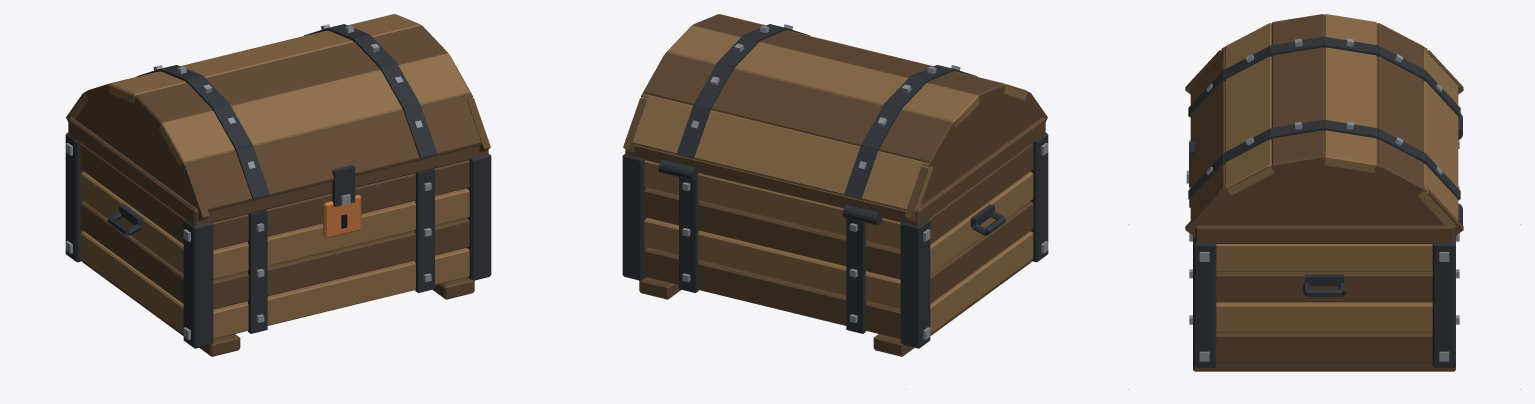
File: coffre_bois.glb
3 views of the same model, side by side, from view 1: azimuth 30°, elevation 25°; view 2: azimuth 150°, elevation 25°; view 3: azimuth 270°, elevation 25° (orthographic).
Visible parts, largest first — view 1: couvercle_bois_sombre.002, pieces_bois_sombre.002, pieces_bois.004, couvercle_bois.002, pieces_fonte.004, couvercle_fonte.004, pieces_cuivre.004, pieces_acier.004, couvercle_acier.004; view 2: couvercle_bois_sombre.002, couvercle_bois.002, pieces_bois_sombre.002, pieces_bois.004, pieces_fonte.004, couvercle_fonte.004, pieces_acier.004, couvercle_acier.004; view 3: couvercle_bois_sombre.002, couvercle_bois.002, pieces_bois_sombre.002, pieces_bois.004, pieces_fonte.004, couvercle_fonte.004, pieces_acier.004, couvercle_acier.004.
Part boxes in pixels (bbox=[...]): couvercle_bois_sombre.002: bbox=[66, 14, 490, 225]; pieces_bois_sombre.002: bbox=[80, 143, 474, 356]; pieces_bois.004: bbox=[80, 171, 469, 339]; couvercle_bois.002: bbox=[69, 14, 469, 167]; pieces_fonte.004: bbox=[65, 132, 491, 348]; couvercle_fonte.004: bbox=[136, 24, 437, 206]; pieces_cuivre.004: bbox=[323, 194, 361, 238]; pieces_acier.004: bbox=[65, 143, 431, 339]; couvercle_acier.004: bbox=[153, 24, 422, 205]; couvercle_bois_sombre.002: bbox=[623, 14, 1047, 225]; couvercle_bois.002: bbox=[632, 14, 1027, 211]; pieces_bois_sombre.002: bbox=[639, 143, 1033, 356]; pieces_bois.004: bbox=[644, 160, 1033, 333]; pieces_fonte.004: bbox=[622, 132, 1048, 348]; couvercle_fonte.004: bbox=[676, 24, 977, 199]; pieces_acier.004: bbox=[682, 143, 1048, 339]; couvercle_acier.004: bbox=[691, 24, 960, 169]; couvercle_bois_sombre.002: bbox=[1185, 14, 1463, 243]; couvercle_bois.002: bbox=[1225, 14, 1458, 227]; pieces_bois_sombre.002: bbox=[1193, 272, 1455, 371]; pieces_bois.004: bbox=[1216, 244, 1432, 332]; pieces_fonte.004: bbox=[1193, 113, 1462, 367]; couvercle_fonte.004: bbox=[1188, 36, 1460, 200]; pieces_acier.004: bbox=[1189, 140, 1459, 361]; couvercle_acier.004: bbox=[1186, 38, 1442, 183].
Bounding box in the file's own units: 1 × 0.6336 × 1.
